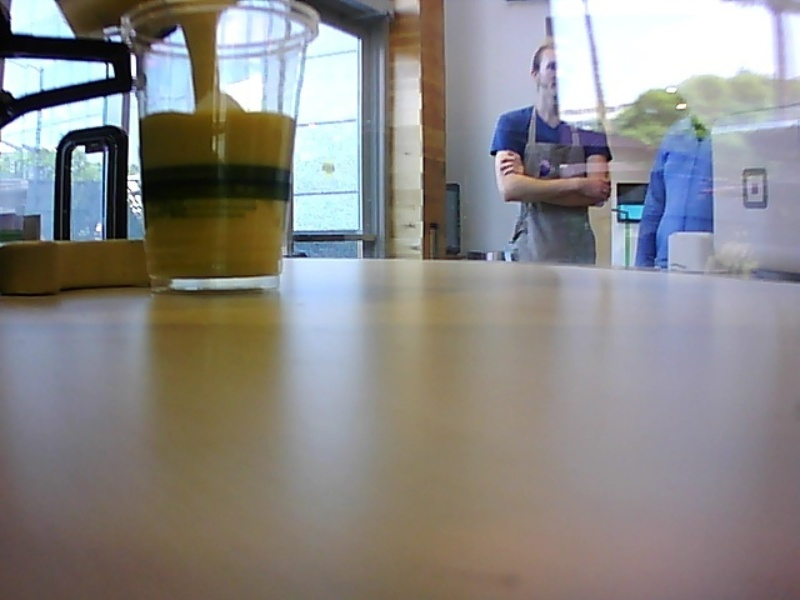cup: (116, 4, 324, 294)
limit: (137, 101, 297, 130)
